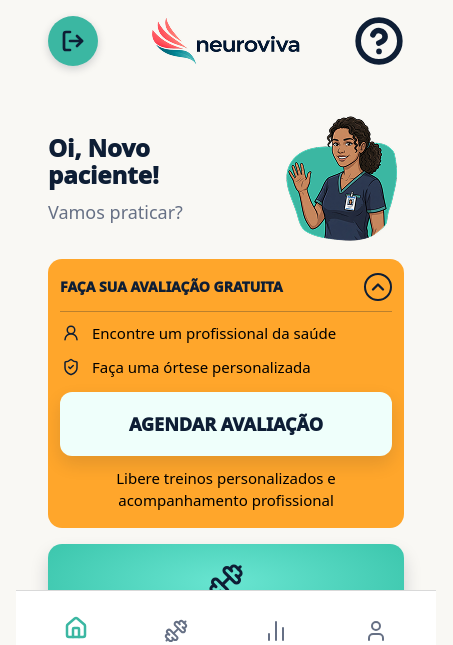
Test: dashboard accordion toggles and towel exercise opens for a new patient
Click the button named "Recolher avalia": (378, 287) [364,273,392,301]
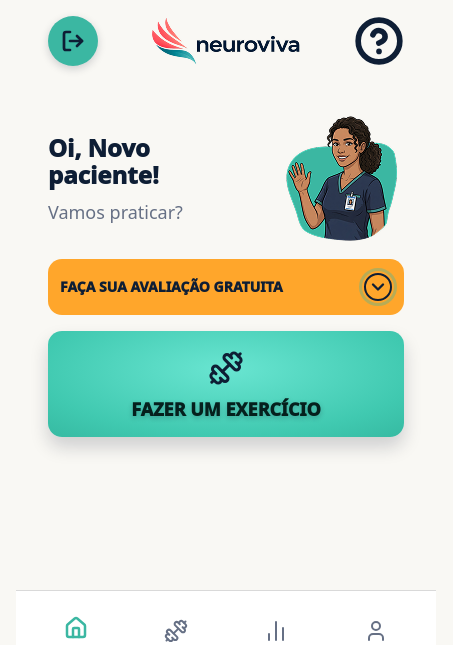
Result: the text "Libere treinos personalizados" is gone
Result: the button named "Expandir avalia" is shown at [364,273,392,301]
Click the button "FAZER UM EXERCÍCIO": (226, 384) [48,331,404,437]
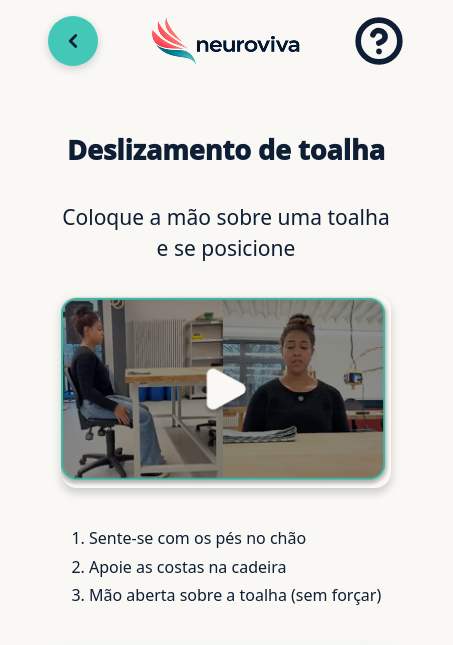
Result: the heading "Deslizamento de toalha" is shown at [67,134,385,166]
